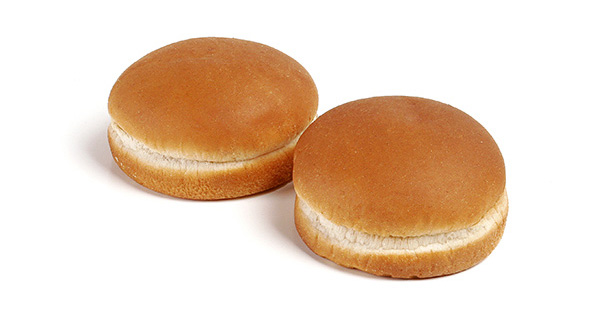hamburger_buns: (104, 26, 338, 216), (279, 104, 524, 279)
